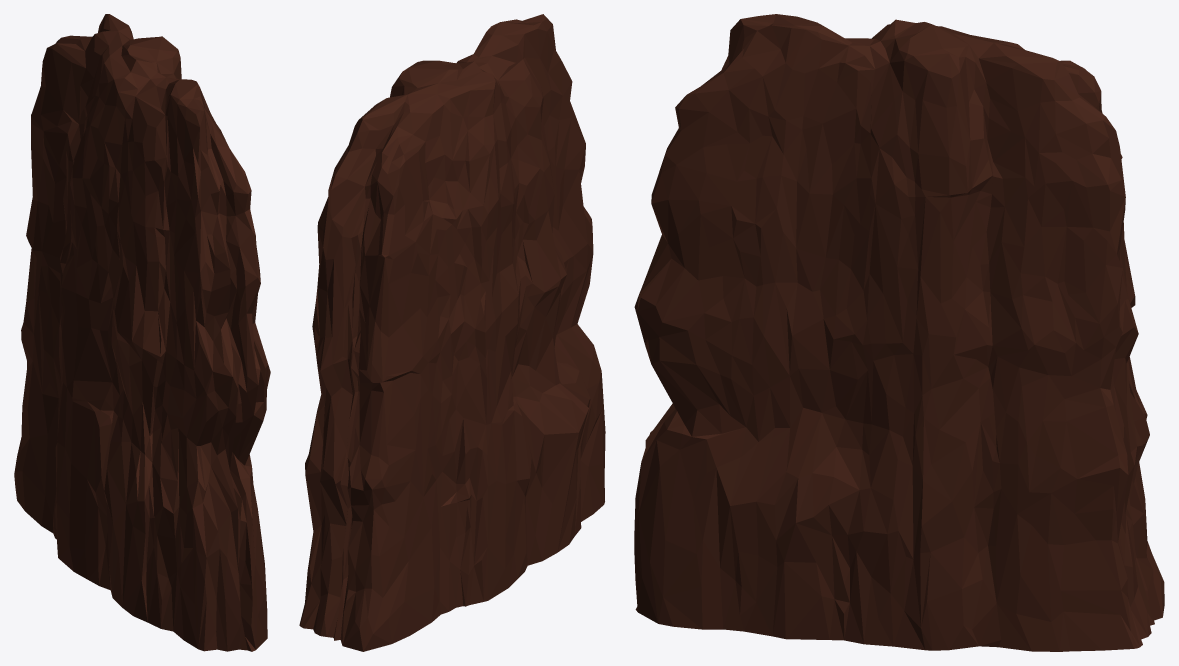
The model's file is sc_FeiTu_mesh_shan4.FBX.
3 renders of one model, left to right at view 1: azimuth 30°, elevation 25°; view 2: azimuth 150°, elevation 25°; view 3: azimuth 270°, elevation 25°, orthographic. The views are drawn at different scales.
Parts seen in each view (by area): view 1: mesh_shan4; view 2: mesh_shan4; view 3: mesh_shan4.
Boxes of the visible parts, bbox=[...] form: mesh_shan4: bbox=[14, 14, 270, 651]; mesh_shan4: bbox=[299, 14, 605, 651]; mesh_shan4: bbox=[634, 14, 1164, 651].
Size of the model in its own units: 708 by 2548 by 2068.
